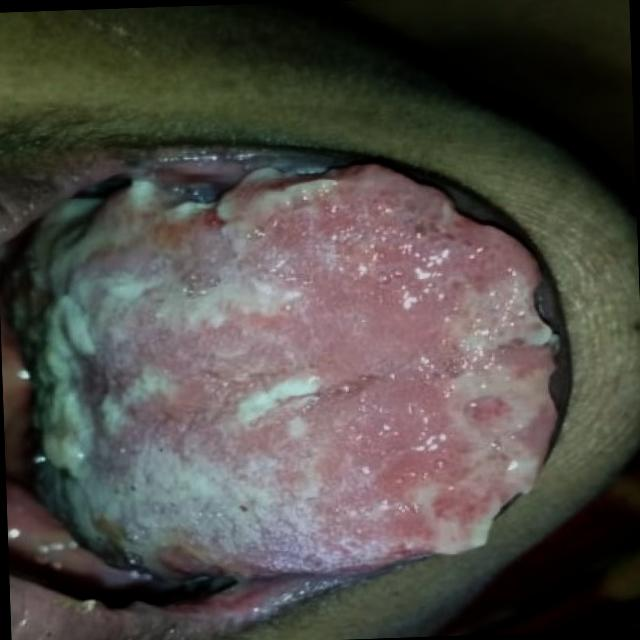Cancer: (5, 166, 554, 573)
